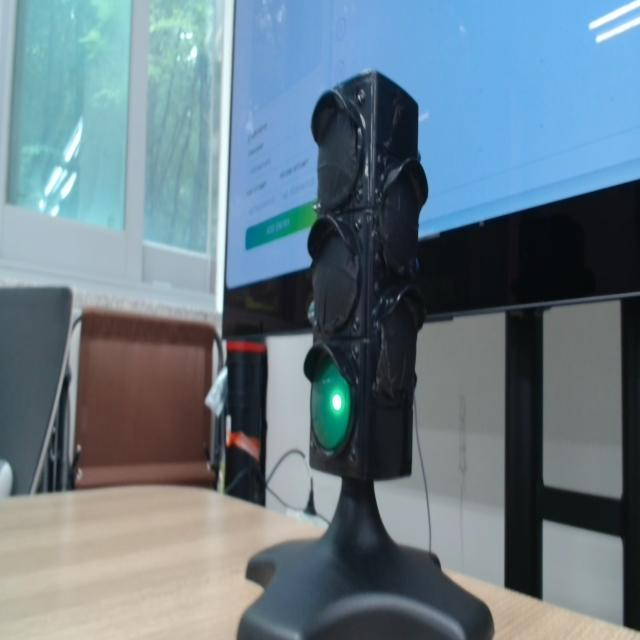green_light: (311, 358, 351, 452)
